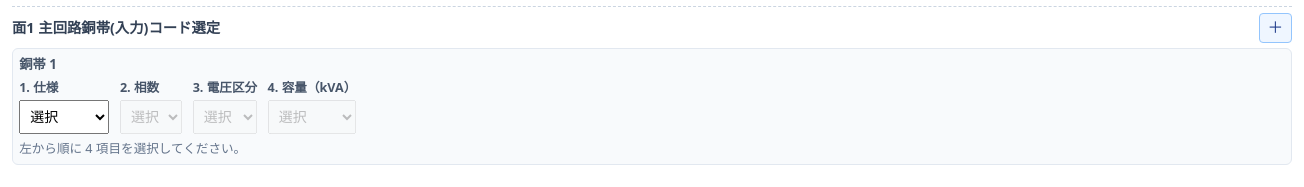
Test: BusbarSelector › shows the result as a single line 「コード｜品名｜型式｜定格」 and lays the four selects out in one nowrap-label row
The width and height of the screenshot is (1304, 187).
Select "標準仕様" in the dropdown named "面1 銅帯1 仕様" at (64, 117), box x1=19 y1=100 x2=109 y2=134
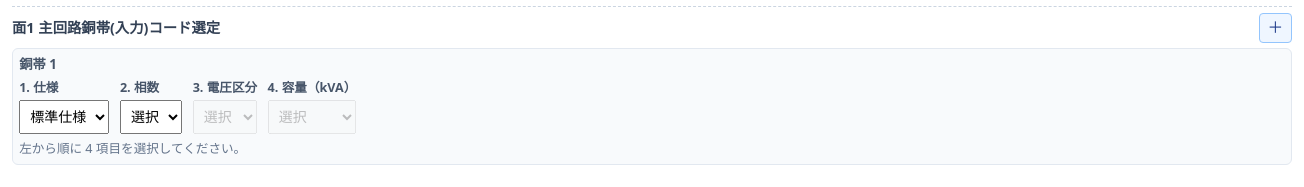
Select "3Φ" in the dropdown named "面1 銅帯1 相数" at (151, 117), box x1=120 y1=100 x2=182 y2=134
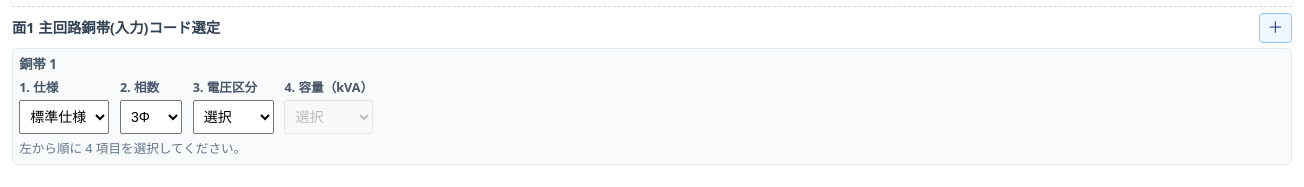
Select "200V級" in the dropdown named "面1 銅帯1 電圧区分" at (233, 117), box x1=193 y1=100 x2=274 y2=134
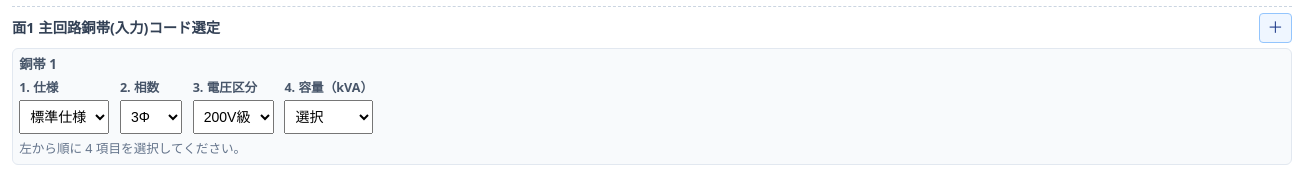
Select "100" in the dropdown named "面1 銅帯1 容量（kVA）" at (329, 117), box x1=284 y1=100 x2=373 y2=134
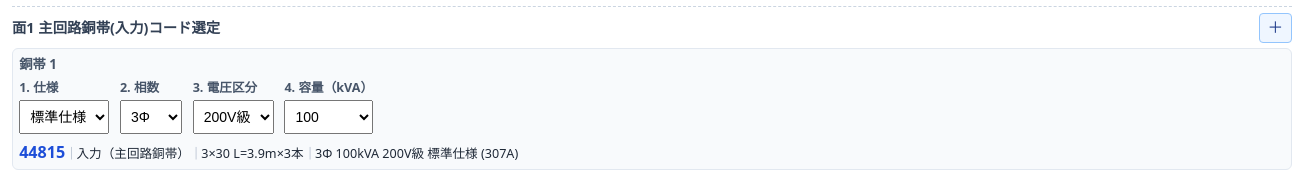
Expected: the number of labels with class "busbar-selector__field" is 4, x1=19 y1=79 x2=109 y2=134; x1=120 y1=79 x2=182 y2=134; x1=193 y1=79 x2=274 y2=134; x1=284 y1=79 x2=373 y2=134
Now the text with class "busbar-selector__code" reads "44815", box x1=19 y1=141 x2=65 y2=163
